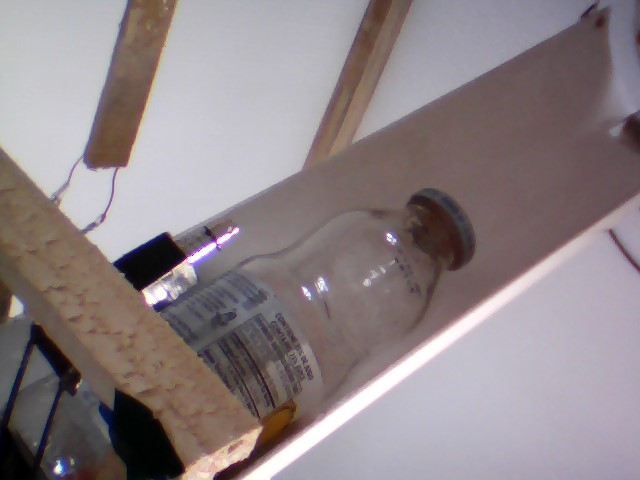vidrio: (193, 184, 481, 443)
